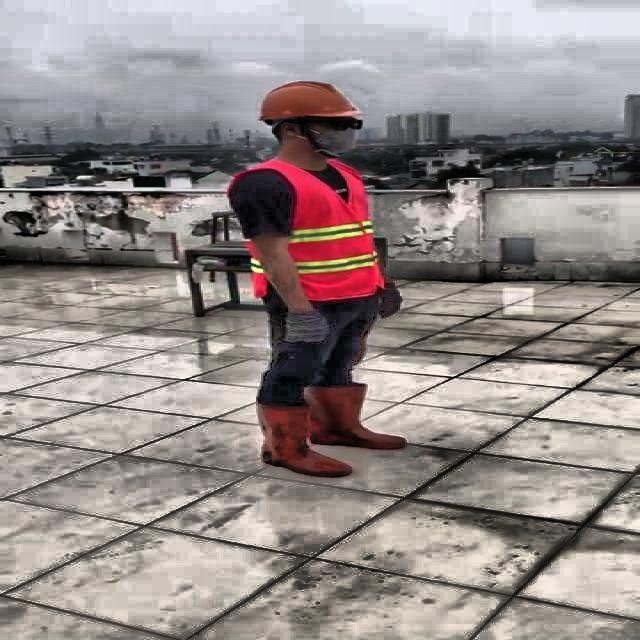safety_helmet: (255, 78, 358, 119)
safety_jacket: (225, 161, 382, 297)
